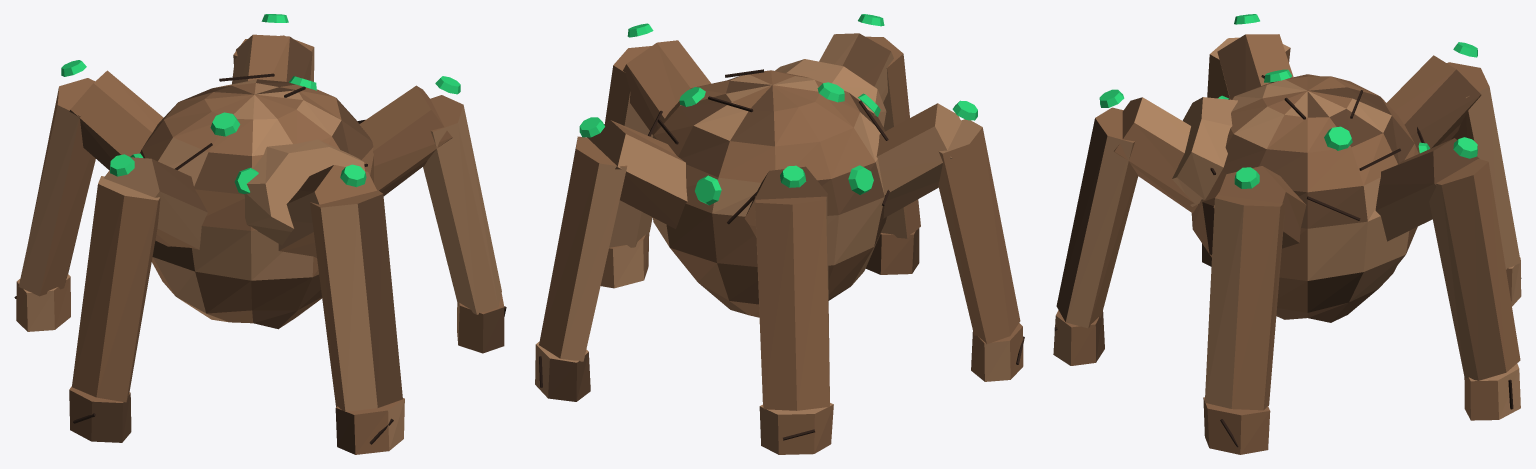
The model's file is rocky.obj.
3 views of the same model, side by side, from view 1: azimuth 30°, elevation 25°; view 2: azimuth 150°, elevation 25°; view 3: azimuth 270°, elevation 25° (orthographic).
Size of the model in its own units: 1.8 by 1.07 by 1.72.
